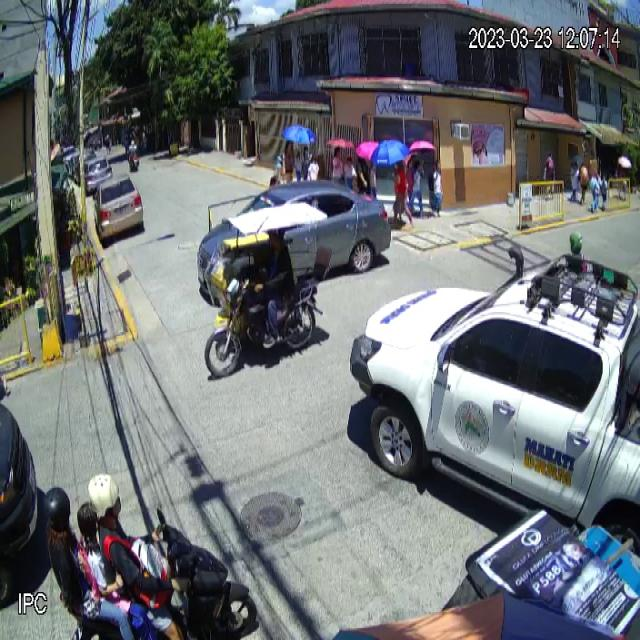Car: (349, 244, 640, 559), (92, 173, 144, 243)
Tricycle: (201, 207, 320, 376)
